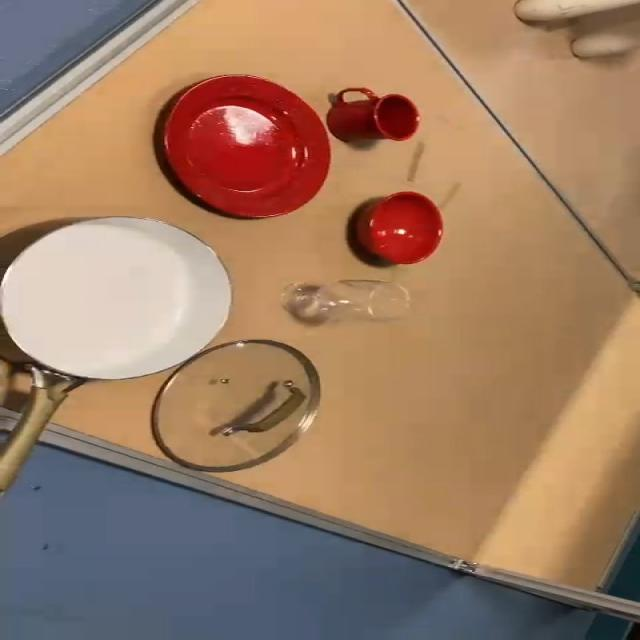Bowl: (365, 194, 448, 262)
Glass: (298, 279, 418, 329)
Plate: (163, 74, 337, 219)
cup: (332, 85, 418, 148)
pot: (0, 216, 230, 498)
